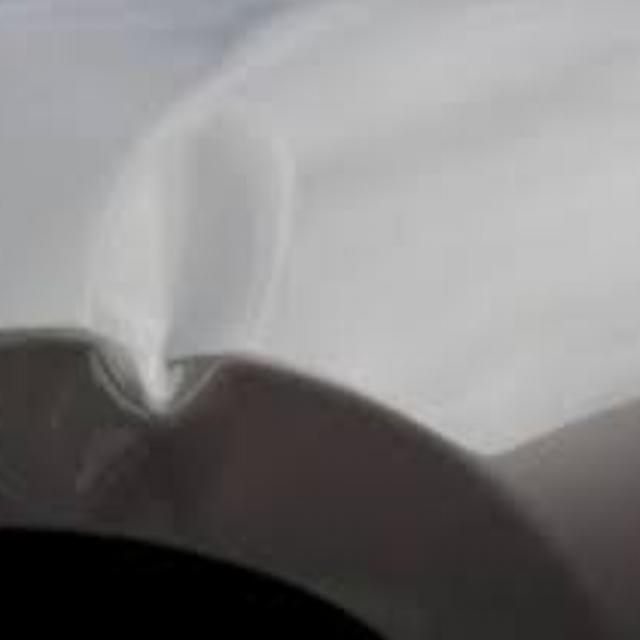dents: (77, 85, 312, 427)
